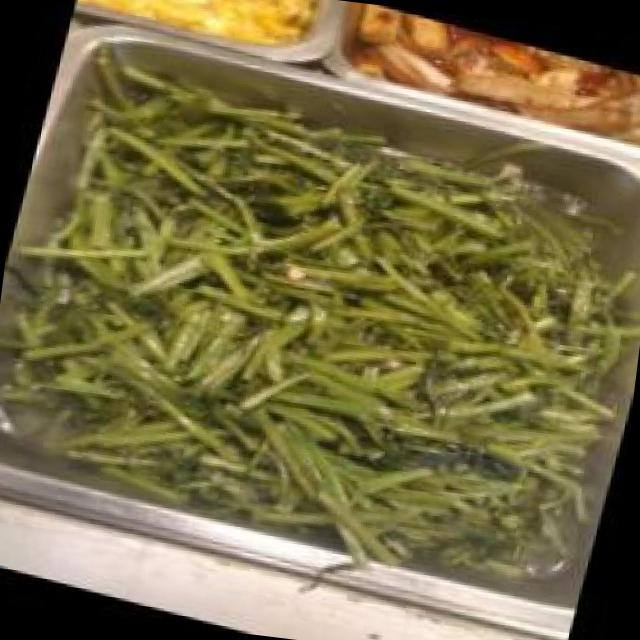water_spinach: (0, 44, 640, 612)
